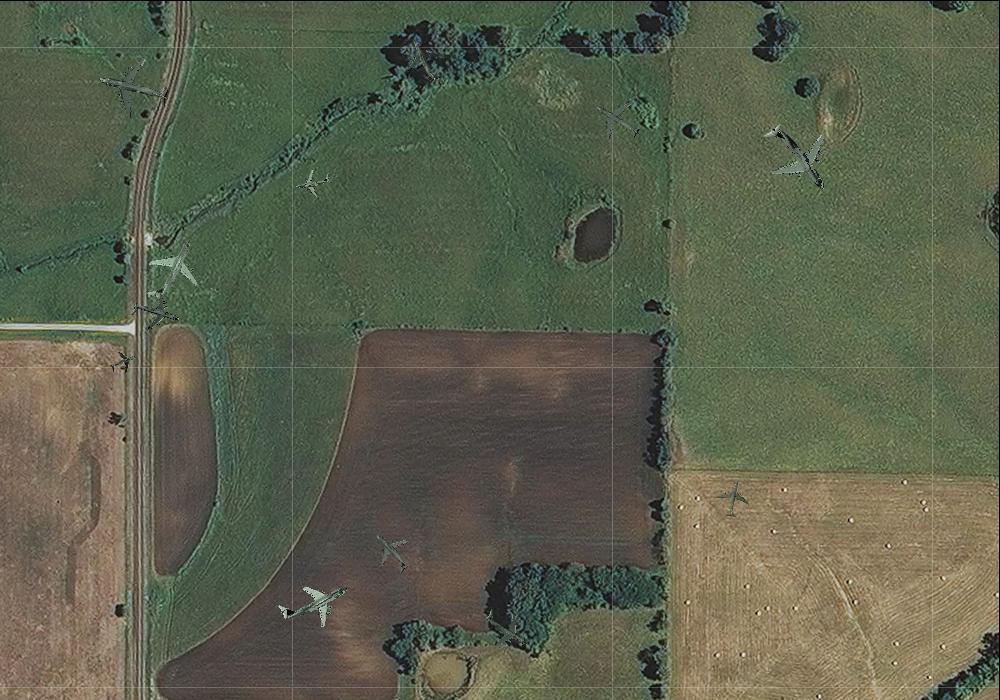plane: (743, 103, 851, 212), (268, 559, 358, 645), (129, 225, 214, 313), (90, 46, 176, 129), (584, 86, 651, 153), (474, 597, 540, 661), (361, 522, 422, 583), (125, 284, 185, 342), (396, 31, 454, 90), (713, 477, 755, 521), (292, 163, 333, 201), (105, 345, 141, 379)
